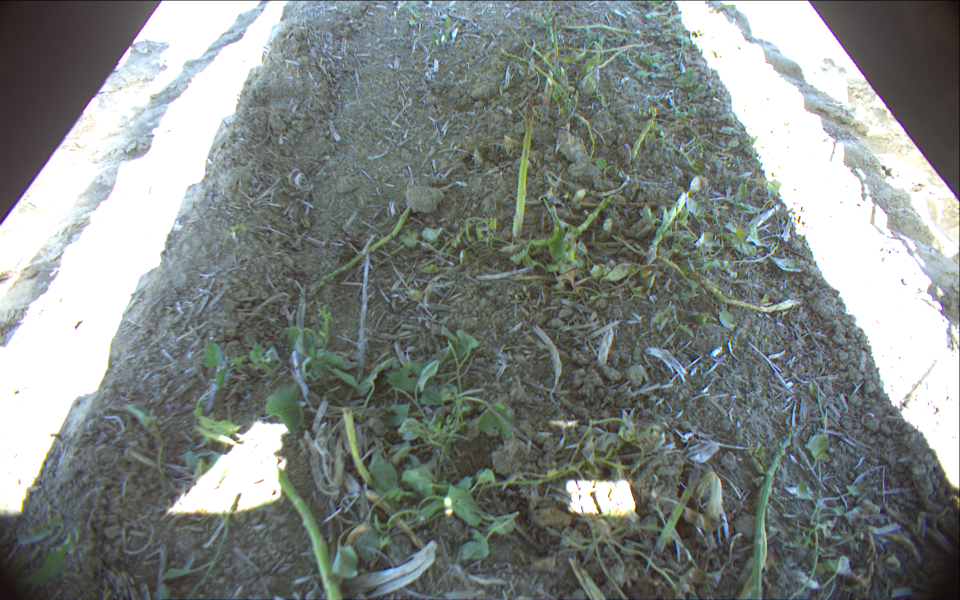aspa: (510, 101, 540, 242), (625, 105, 657, 166)
